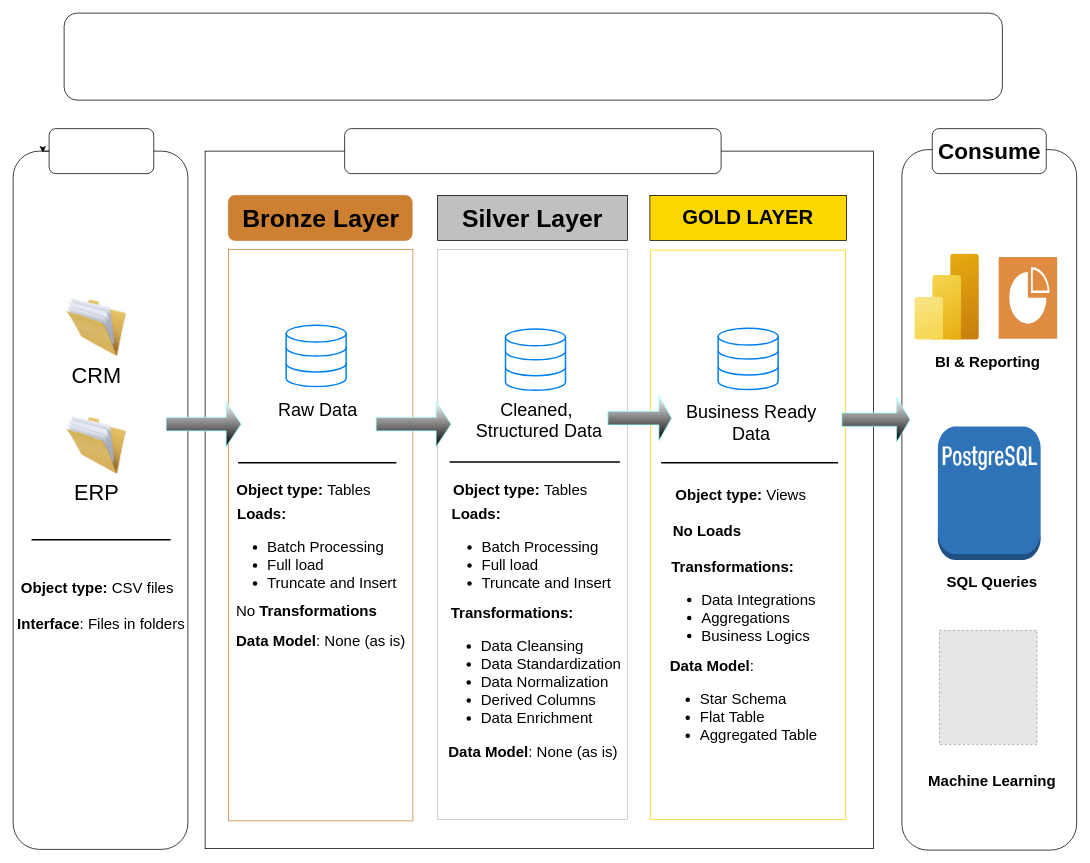
Image size: 1090x863. Some labels were removed from this diagram. Grey dashed boxes stand in for pictures. The centre of each missing label's shape, as x and y in pixels:
"Data Warehouse" goes at (532,151).
"High Level Architecture" goes at (532,56).
"Sources" goes at (101,151).
